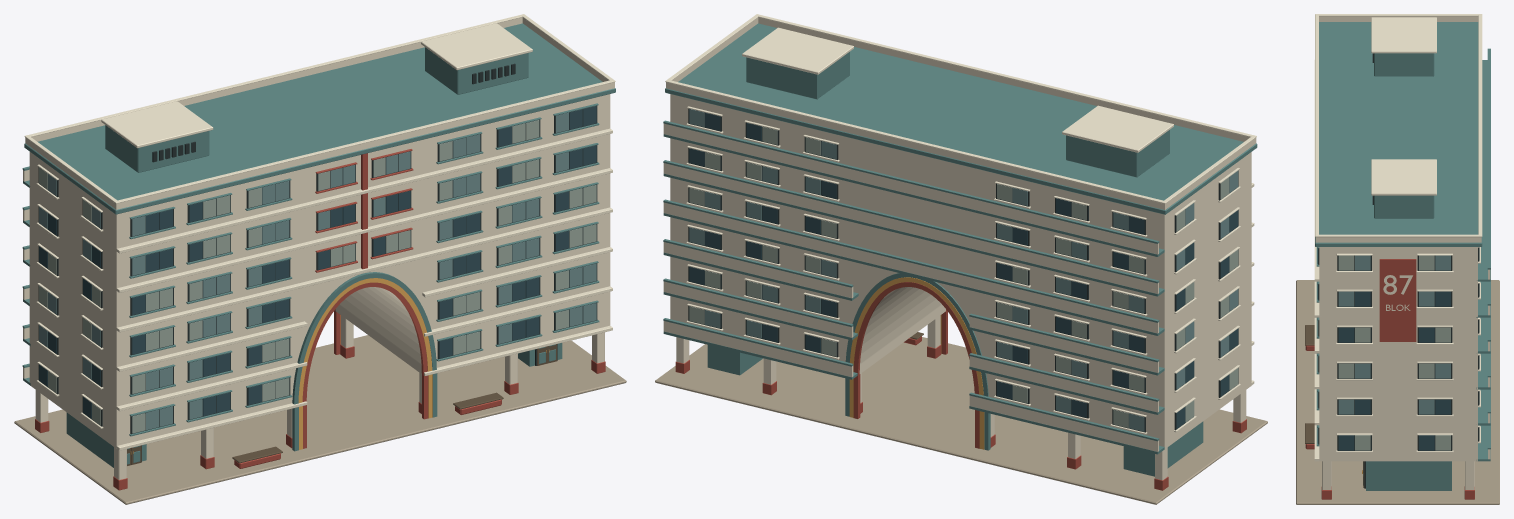
3 renders of one model, left to right at view 1: azimuth 30°, elevation 25°; view 2: azimuth 150°, elevation 25°; view 3: azimuth 270°, elevation 25°, orthographic. The views are drawn at different scales.
Parts seen in each view (by area): view 1: Residential wings, Casements and sills, Service roofs, Open void deck, Rainbow portal, Roof parapets, Entrance joinery; view 2: Residential wings, Service roofs, Open void deck, Casements and sills, Roof parapets, Rainbow portal; view 3: Service roofs, Residential wings, Open void deck, Casements and sills, Roof parapets, Rainbow portal, Cast lettering.
Boxes of the visible parts, x1,y1,x2,y2 form: Residential wings: (22, 94, 612, 450); Casements and sills: (36, 103, 599, 436); Service roofs: (24, 23, 615, 214); Open void deck: (14, 315, 626, 504); Rainbow portal: (292, 153, 437, 451); Roof parapets: (24, 14, 615, 209); Entrance joinery: (127, 344, 557, 465); Residential wings: (663, 94, 1254, 454); Service roofs: (665, 23, 1257, 214); Open void deck: (655, 315, 1267, 504); Casements and sills: (686, 106, 1240, 434); Roof parapets: (665, 14, 1256, 209); Rainbow portal: (845, 263, 990, 450); Service roofs: (1315, 17, 1482, 246); Residential wings: (1314, 48, 1490, 461); Open void deck: (1296, 280, 1499, 504); Casements and sills: (1316, 247, 1480, 452); Roof parapets: (1315, 14, 1482, 242); Rainbow portal: (1379, 259, 1416, 341); Cast lettering: (1383, 275, 1412, 310).
Bounding box in the file's own units: 38.6 × 23.29 × 14.9.
